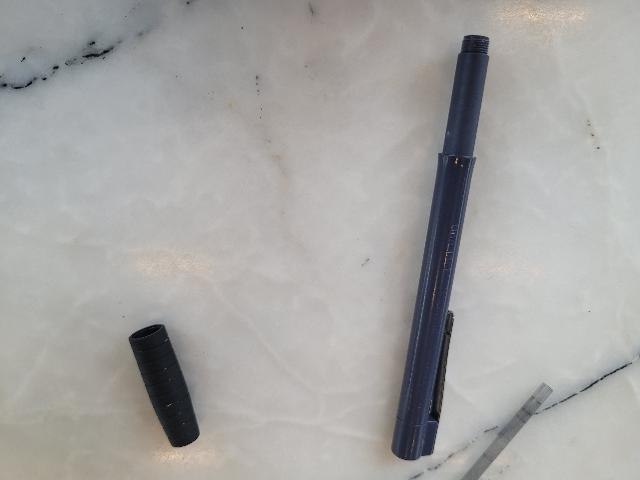Plastik: (382, 31, 494, 467), (123, 319, 204, 446)
